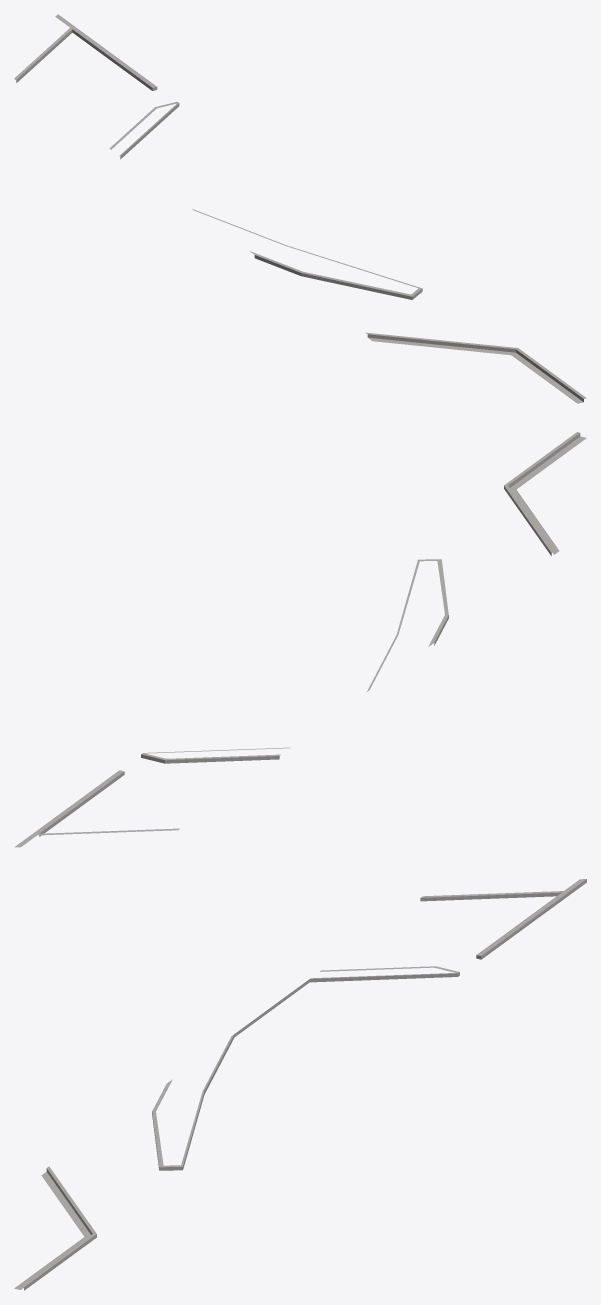
Rendered from kd_stage_135fe0_4_7_bounded.glb.
3 renders of one model, top to bottom at view 1: azimuth 30°, elevation 25°; view 2: azimuth 150°, elevation 25°; view 3: azimuth 330°, elevation 25°, orthographic. The views are drawn at different scales.
Visible parts, largest first — view 1: kd_stage_135fe0_4_7_bounded; view 2: kd_stage_135fe0_4_7_bounded; view 3: kd_stage_135fe0_4_7_bounded.
Part boxes in pixels (bbox=[...]): kd_stage_135fe0_4_7_bounded: bbox=[14, 14, 586, 403]; kd_stage_135fe0_4_7_bounded: bbox=[14, 432, 586, 847]; kd_stage_135fe0_4_7_bounded: bbox=[14, 879, 586, 1290].
Bounding box in the file's own units: 6.36 × 0.4 × 58.81.
1 material, 1 textured.
